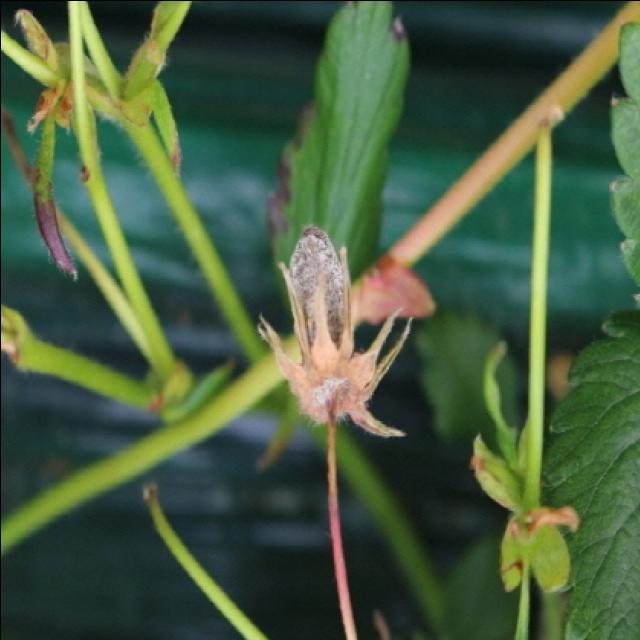Gray Mold: (255, 223, 412, 456)
